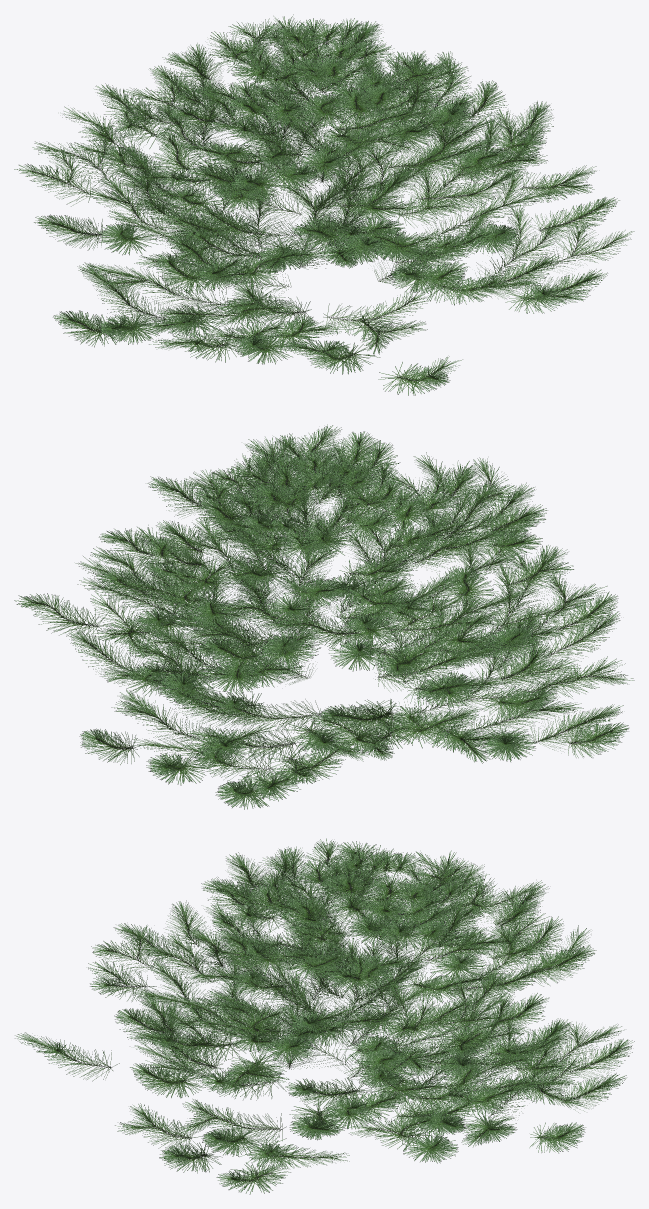
File: bush_1.glb
3 views of the same model, one above another, from view 1: azimuth 30°, elevation 25°; view 2: azimuth 150°, elevation 25°; view 3: azimuth 270°, elevation 25° (orthographic). The views are drawn at different scales.
Parts seen in each view (by area): view 1: leaves.002; view 2: leaves.002; view 3: leaves.002.
Boxes of the visible parts, x1=… form: leaves.002: x1=14, y1=14, x2=634, y2=395; leaves.002: x1=14, y1=424, x2=634, y2=809; leaves.002: x1=15, y1=838, x2=634, y2=1194.
Size of the model in its own units: 3.92 by 1.77 by 4.1.
1 material, 1 textured.
